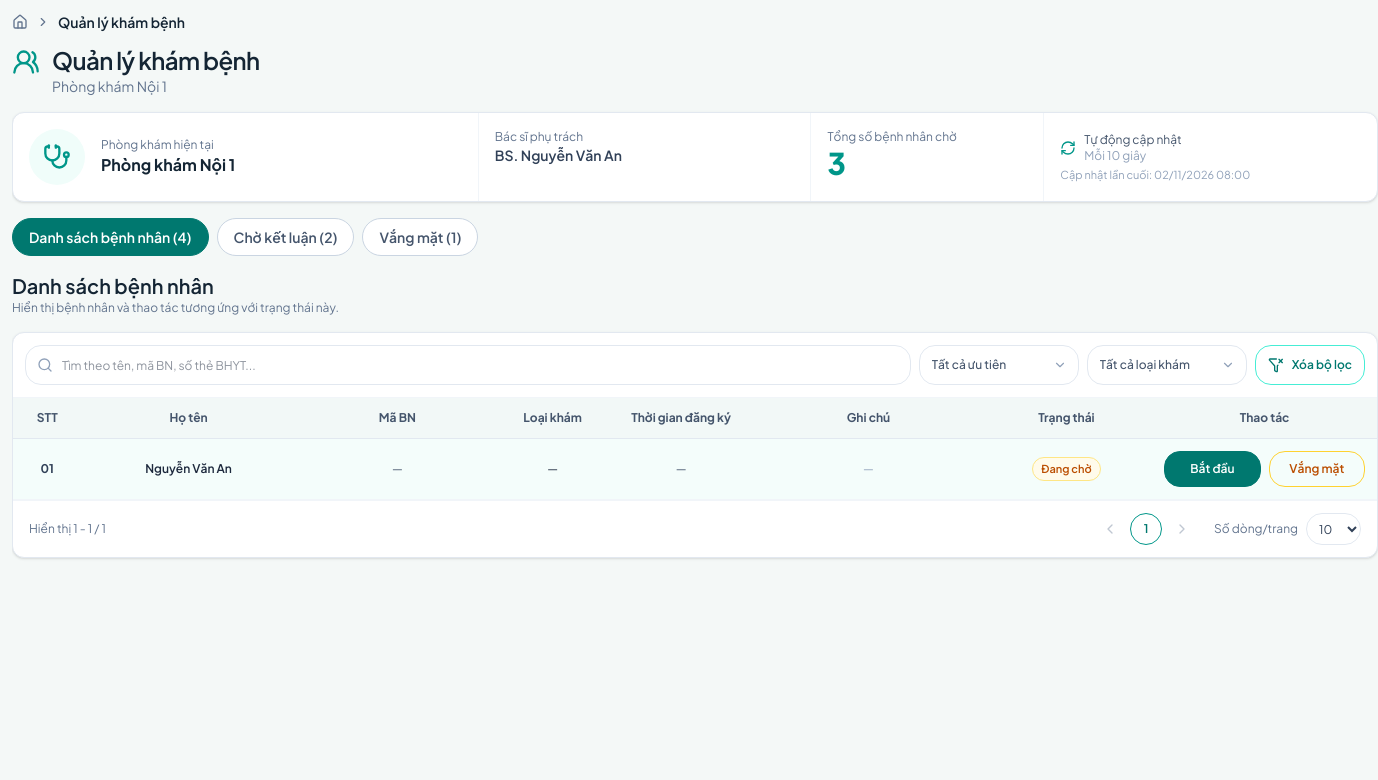
it: DoctorWaitingListPage messages › keeps the last loaded list and shows MSG80 when a reload fails (EF-02)
Expected: the text "Nguyễn Văn An" is shown, [82,438,296,500]
Click the button titled "Tải lại ngay".
click(1133, 139)  # box [1060,132,1361,164]
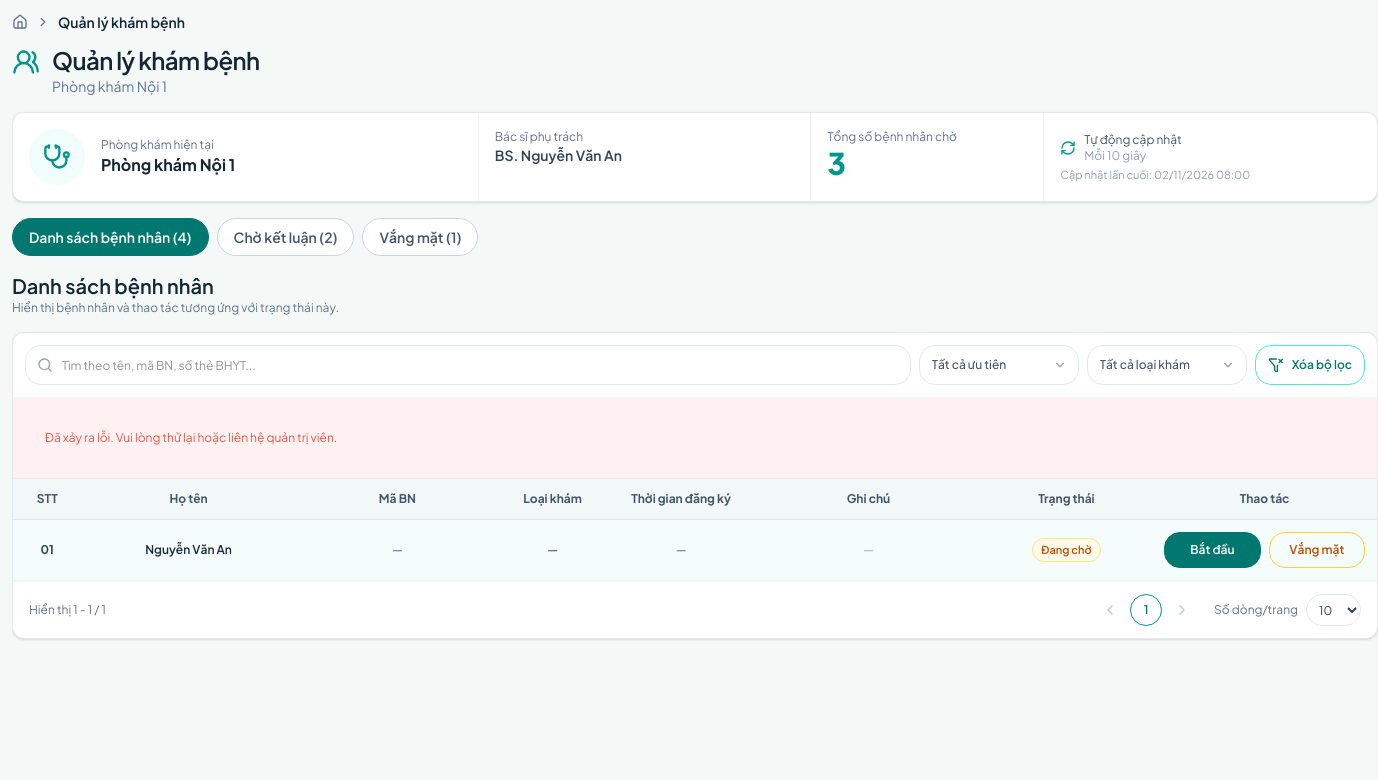
Expected: the text "Nguyễn Văn An" is shown, [82,520,296,580]
Expected: the message reads "Đã xảy ra lỗi. Vui lòng thử lại hoặc liên hệ quản trị viên.", [45,430,337,445]
